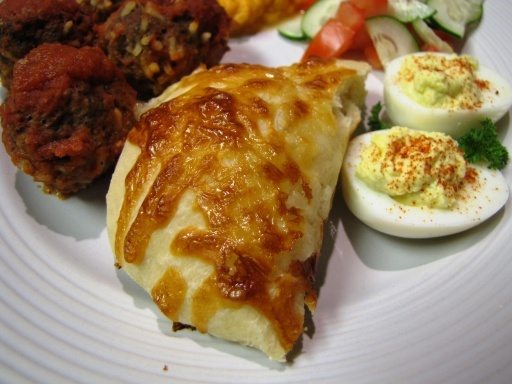background: (1, 0, 409, 218)
